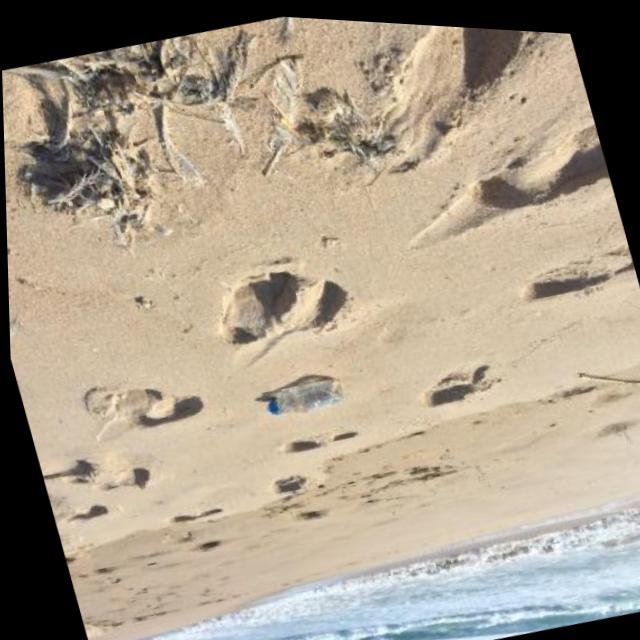plastic: (263, 373, 345, 423)
